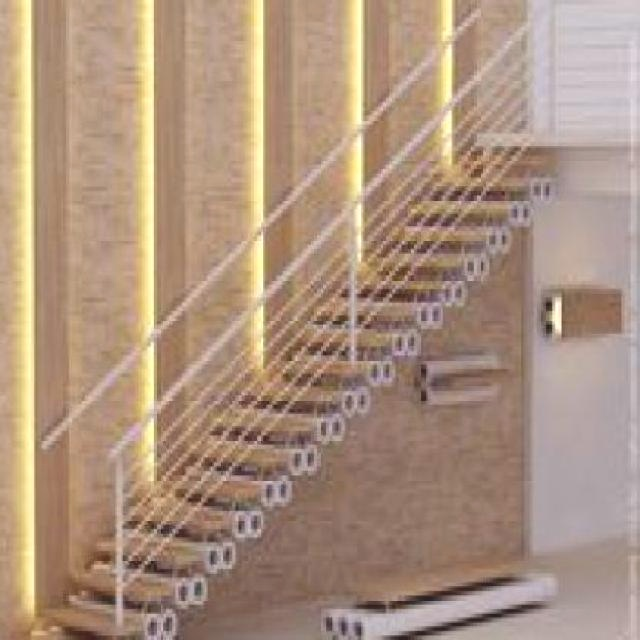stair: (0, 75, 552, 635)
